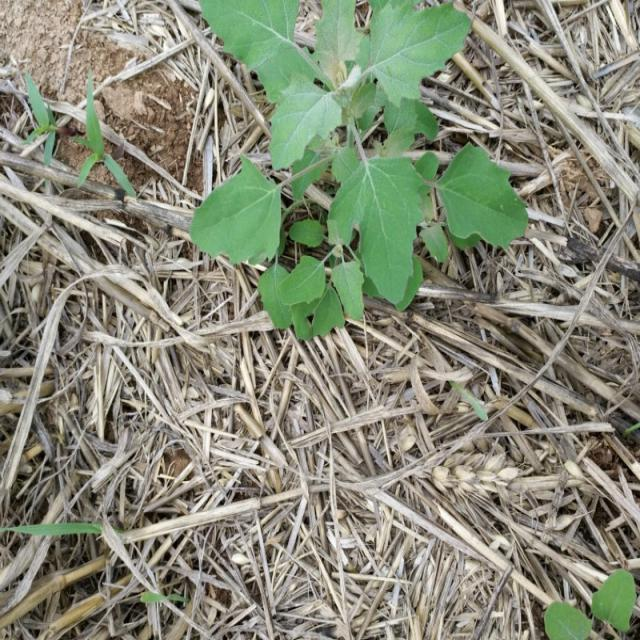ca: (188, 0, 470, 340)
